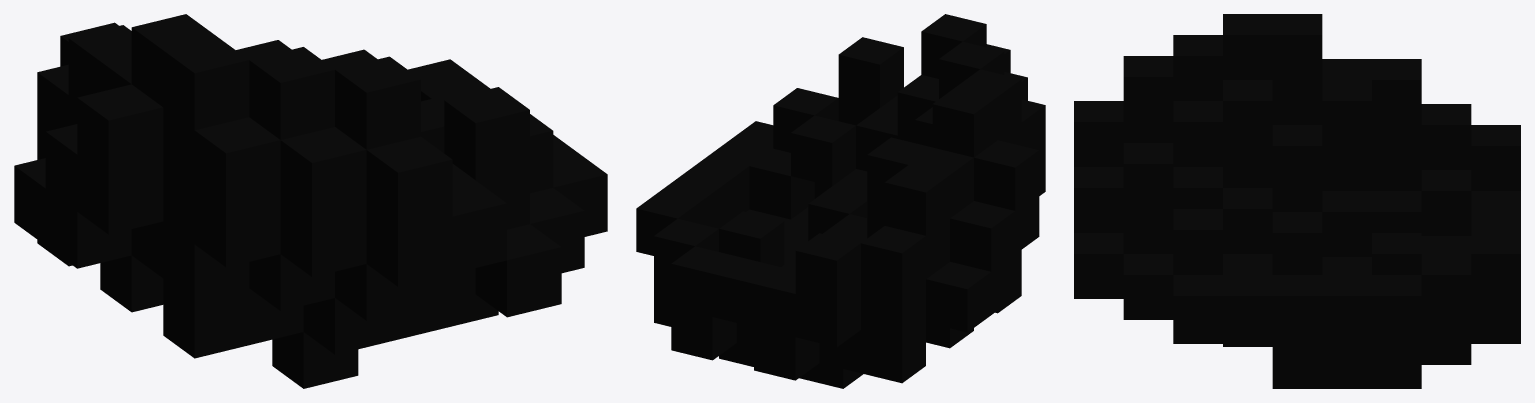
The model's file is obstacle_2.fbx.
3 views of the same model, side by side, from view 1: azimuth 30°, elevation 25°; view 2: azimuth 150°, elevation 25°; view 3: azimuth 270°, elevation 25° (orthographic). The views are drawn at different scales.
Visible parts, largest first — view 1: obstacle_2; view 2: obstacle_2; view 3: obstacle_2.
Part boxes in pixels (<box>): obstacle_2: <box>14,14,607,388</box>; obstacle_2: <box>636,14,1045,388</box>; obstacle_2: <box>1074,14,1520,388</box>.
Bounding box in the file's own units: 800 × 600 × 900.
